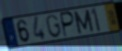1: (91, 7, 102, 32)
4: (33, 16, 46, 43)
6: (16, 19, 31, 44)
G: (45, 13, 63, 38)
M: (72, 9, 95, 36)
P: (60, 11, 76, 39)
